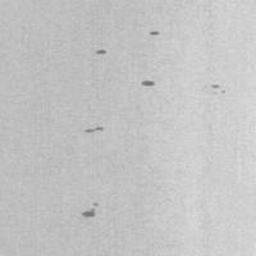Inclusion: (81, 201, 100, 219), (211, 83, 228, 95), (83, 125, 106, 133), (141, 81, 156, 87), (148, 29, 160, 36), (96, 49, 106, 55)
